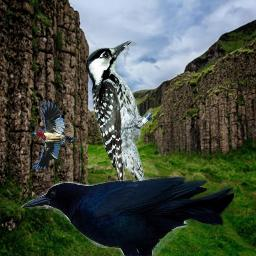Crow: (21, 176, 234, 256)
Woodpecker: (85, 40, 152, 204), (32, 101, 76, 170)
